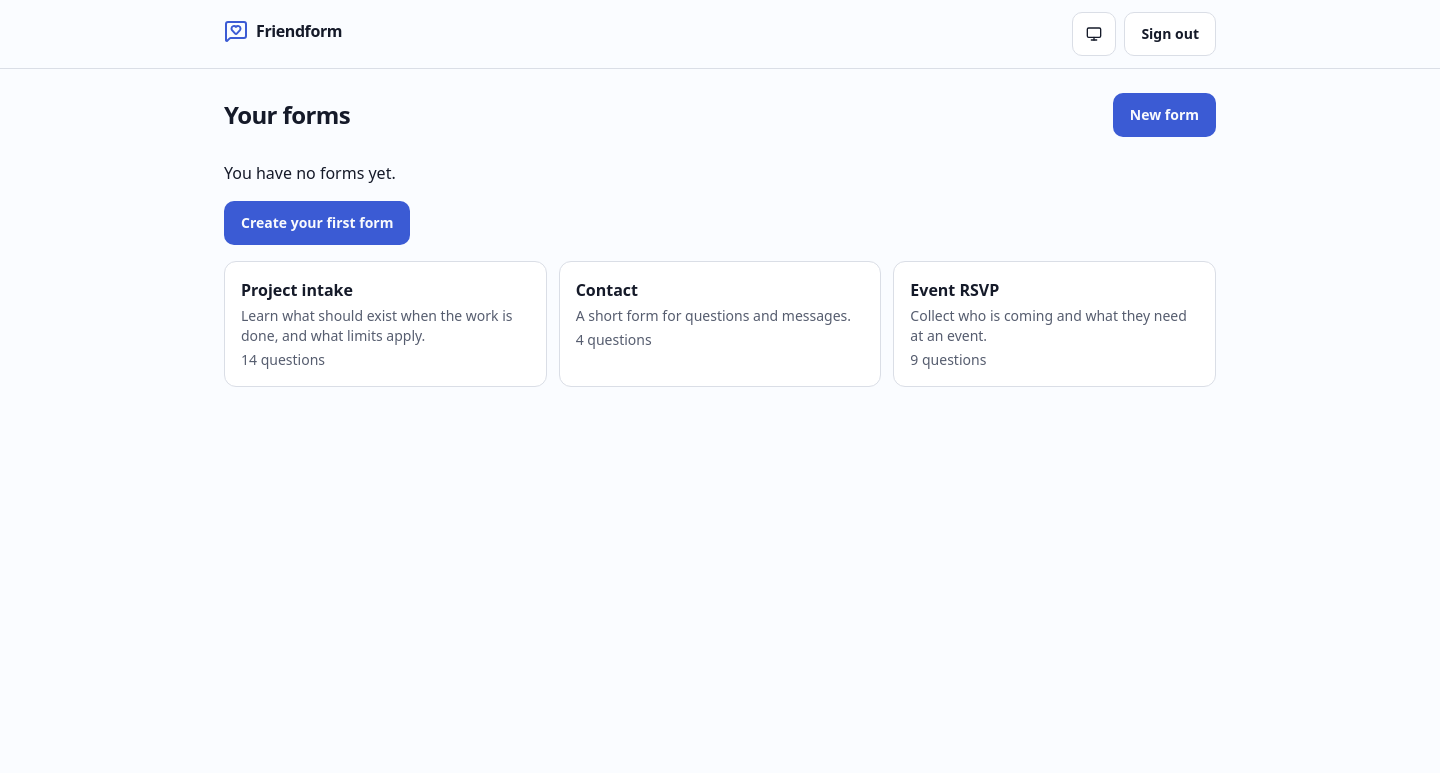
Test: FormsPage › posts a template schema
Click the button "New form".
click(1164, 115)  # box [1113,93,1216,137]
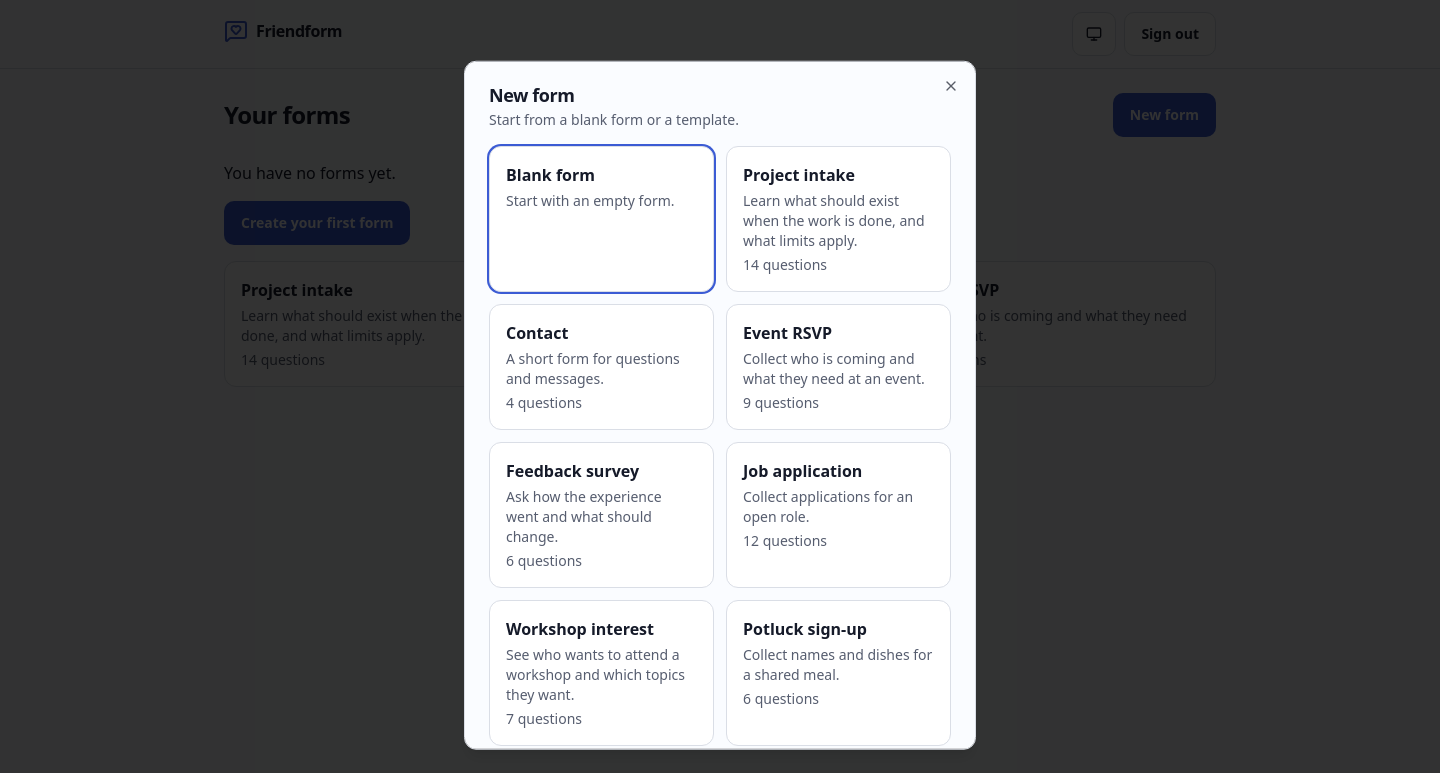
Click the button that starts with "Project intake".
click(838, 219)  # box [726,146,951,292]
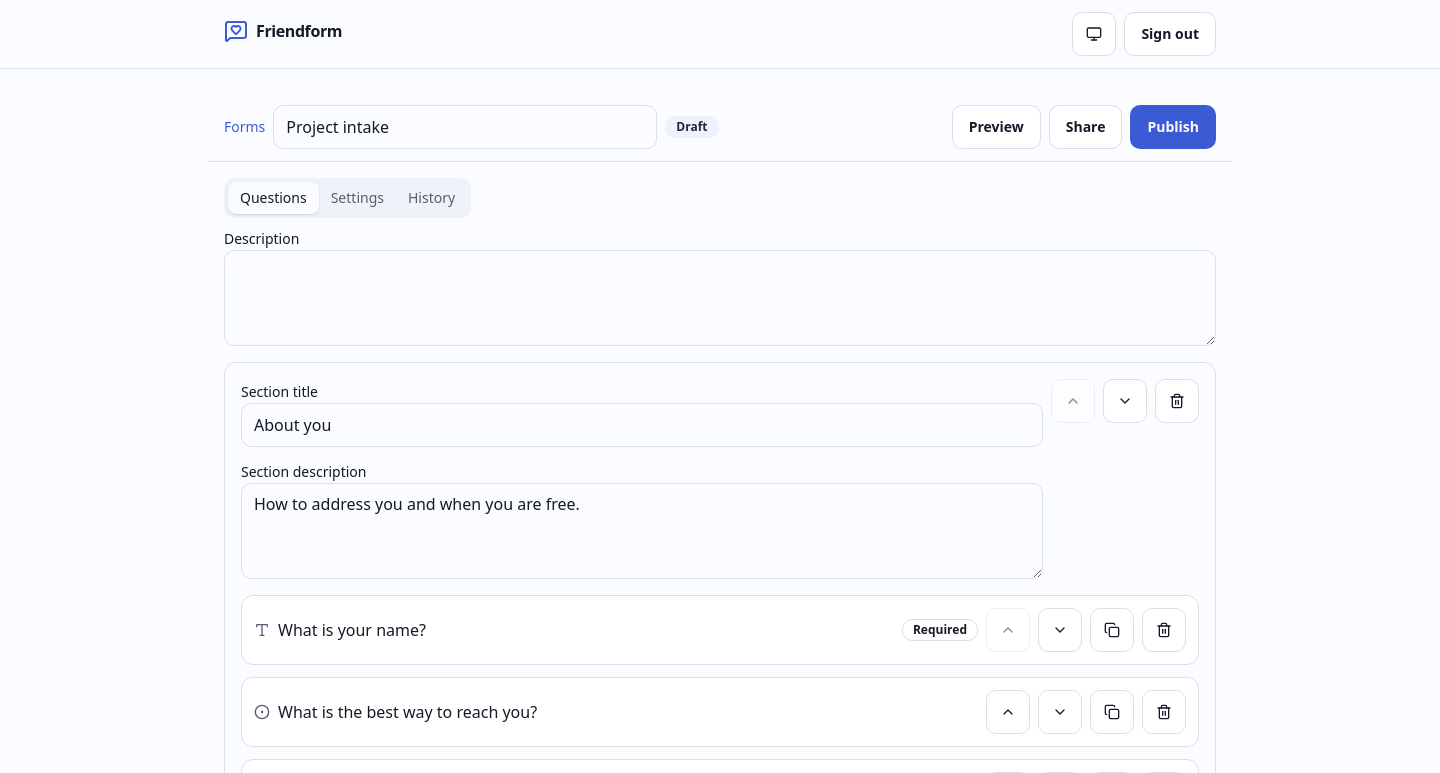
Check: the field named "Form title" holds "Project intake", box [273,105,657,149]
